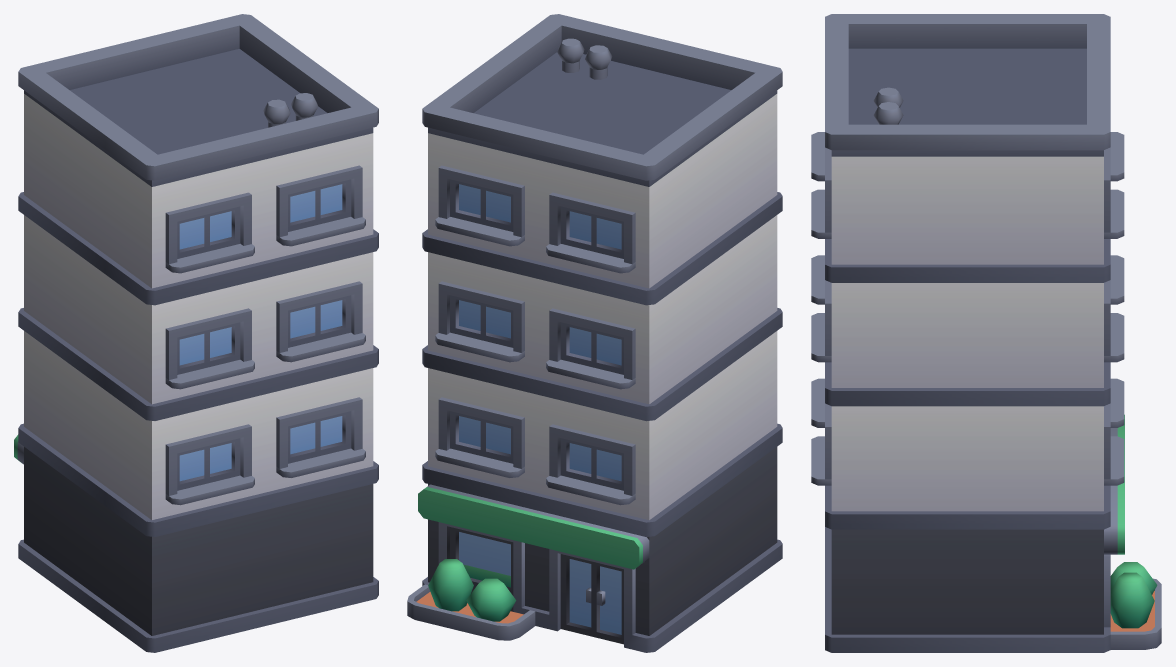
File: building-f.glb
The picture shows the model from 3 angles, left to right: view 1: azimuth 30°, elevation 25°; view 2: azimuth 150°, elevation 25°; view 3: azimuth 270°, elevation 25°; orthographic projection. The views are drawn at different scales.
Visible parts, largest first — view 1: building-f; view 2: building-f; view 3: building-f.
Part boxes in pixels (x1,y1,x2,y2): building-f: (14,14,378,652); building-f: (407,14,782,652); building-f: (811,14,1161,652).
Bounding box in the file's own units: 0.84 × 1.69 × 1.03.
Materials: 1 (1 with a texture image).
